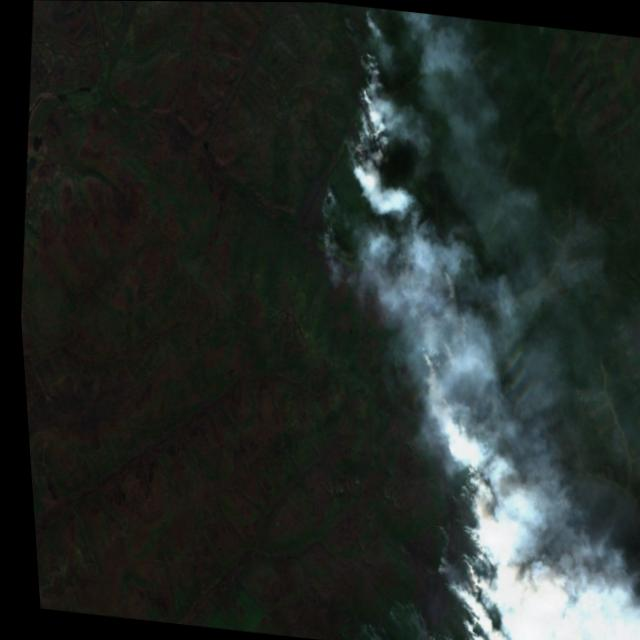fire: (311, 220, 554, 640), (325, 33, 401, 181)
